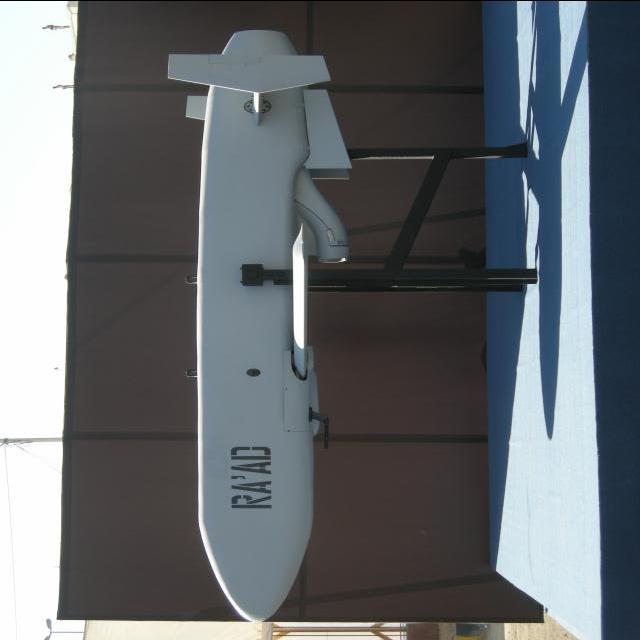Missile: (173, 23, 345, 634)
